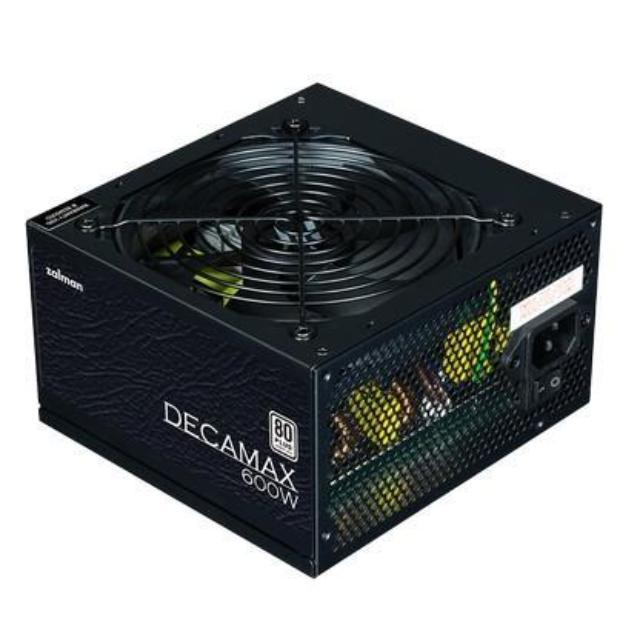PSU: (36, 42, 601, 628)
